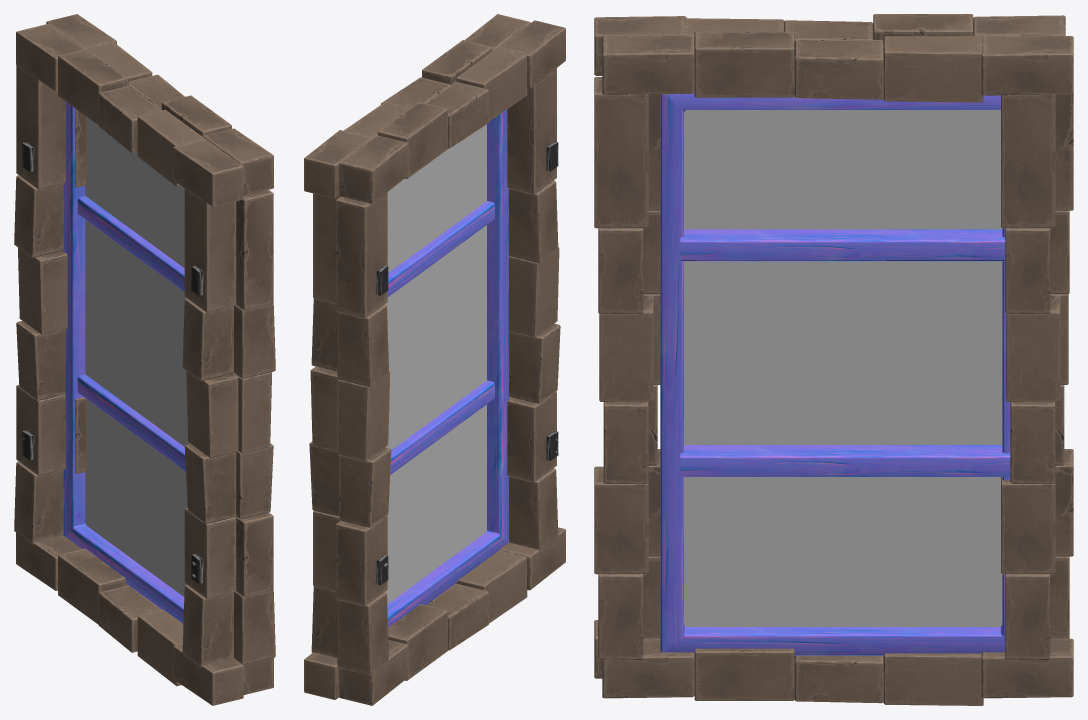
The model's file is SM_separate_window_01.fbx.
3 renders of one model, left to right at view 1: azimuth 30°, elevation 25°; view 2: azimuth 150°, elevation 25°; view 3: azimuth 270°, elevation 25°, orthographic. The views are drawn at different scales.
Parts seen in each view (by area): view 1: SM_separate_window_01_LOD0; view 2: SM_separate_window_01_LOD0; view 3: SM_separate_window_01_LOD0.
Boxes of the visible parts, x1=… form: SM_separate_window_01_LOD0: x1=14, y1=14, x2=275, y2=705; SM_separate_window_01_LOD0: x1=304, y1=14, x2=565, y2=705; SM_separate_window_01_LOD0: x1=594, y1=14, x2=1073, y2=705.
Size of the model in its own units: 48.96 by 232 by 350.
